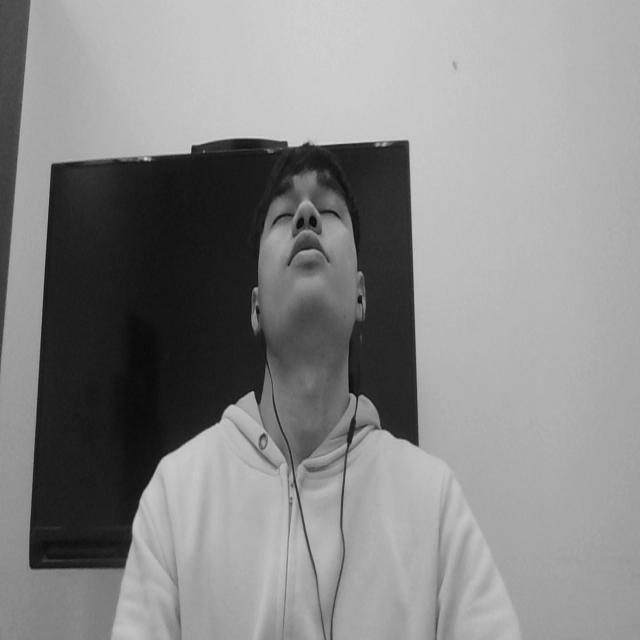sleepy: (265, 178, 350, 352)
